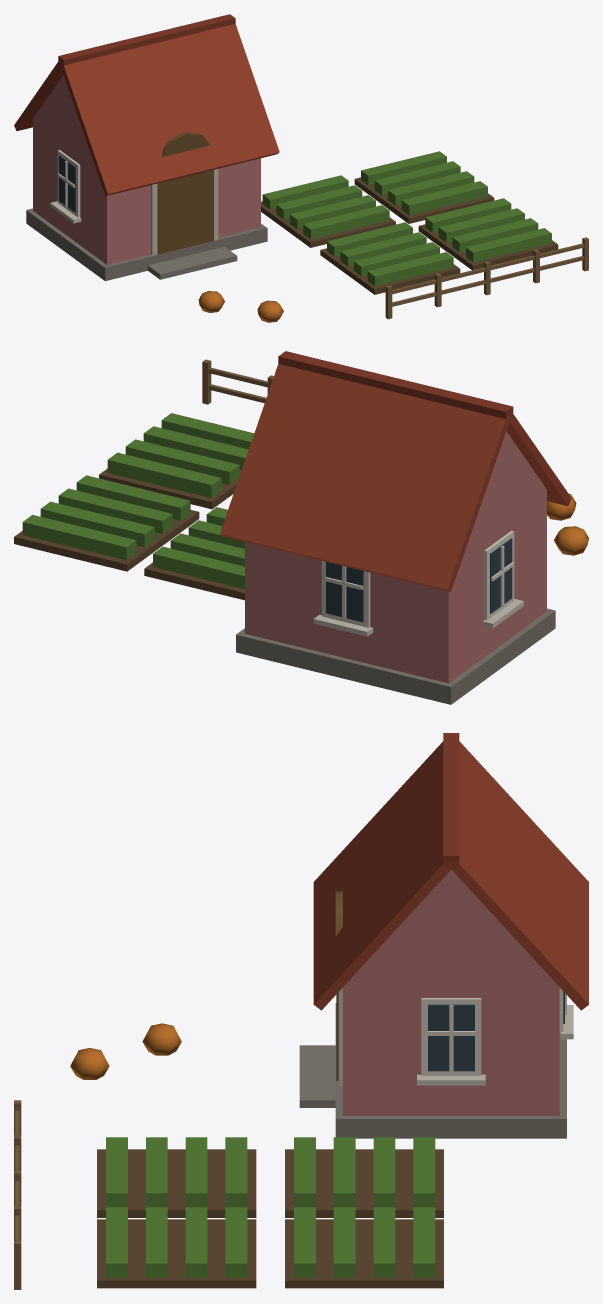
Rendered from procedural_vegetable_garden@4.glb.
3 views of the same model, one above another, from view 1: azimuth 30°, elevation 25°; view 2: azimuth 150°, elevation 25°; view 3: azimuth 270°, elevation 25° (orthographic). The views are drawn at different scales.
Visible parts, largest first — view 1: part_0; view 2: part_0; view 3: part_0.
Part boxes in pixels (x1=…): part_0: x1=14, y1=14, x2=588, y2=322; part_0: x1=14, y1=351, x2=588, y2=704; part_0: x1=14, y1=733, x2=588, y2=1289.
Bounding box in the file's own units: 8.86 × 4.37 × 7.95.
